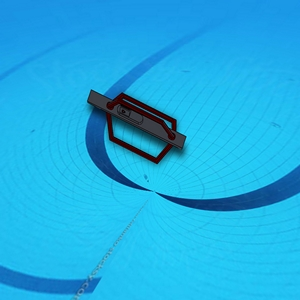submarine: (88, 88, 185, 162)
